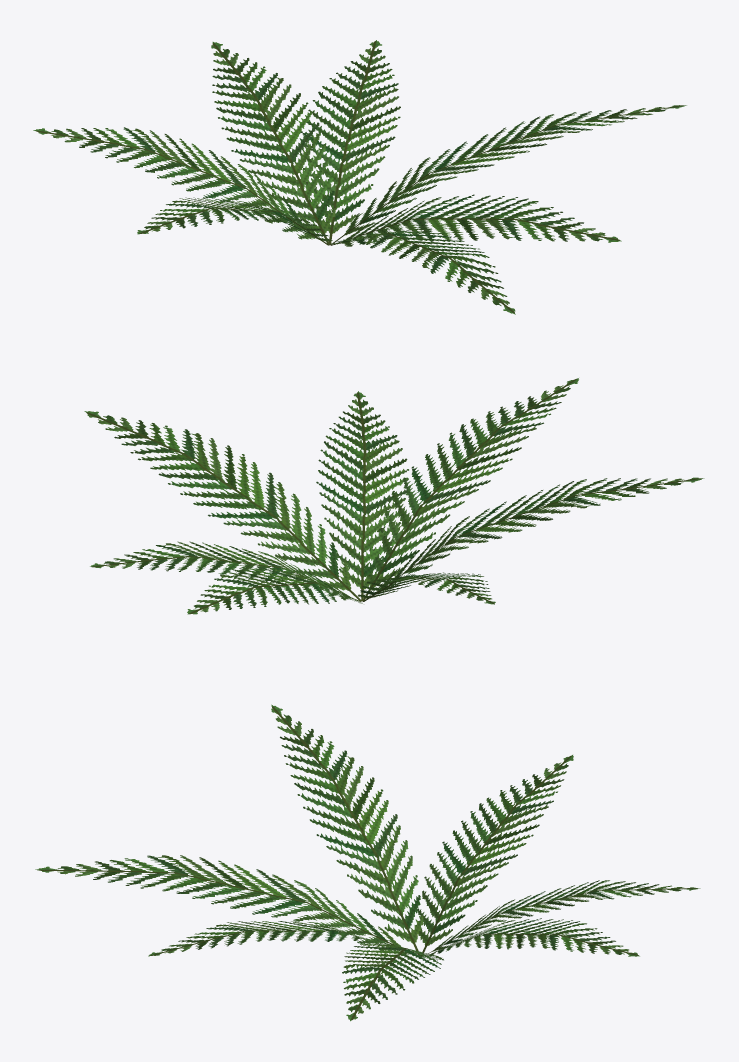
The model's file is FOLIAGE_Fern_01.fbx.
3 views of the same model, one above another, from view 1: azimuth 30°, elevation 25°; view 2: azimuth 150°, elevation 25°; view 3: azimuth 270°, elevation 25° (orthographic). The views are drawn at different scales.
Parts seen in each view (by area): view 1: FOLIAGE_Fern_01; view 2: FOLIAGE_Fern_01; view 3: FOLIAGE_Fern_01.
Part boxes in pixels (<box>): FOLIAGE_Fern_01: <box>33,40,686,314</box>; FOLIAGE_Fern_01: <box>84,378,704,614</box>; FOLIAGE_Fern_01: <box>35,704,700,1021</box>.
Size of the model in its own units: 1.49 by 0.3263 by 1.46.
Materials: 1 (1 with a texture image).
